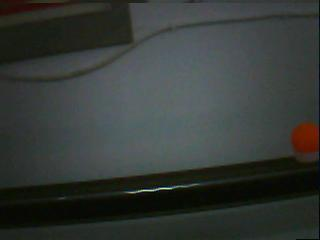oball: (291, 122, 320, 153)
